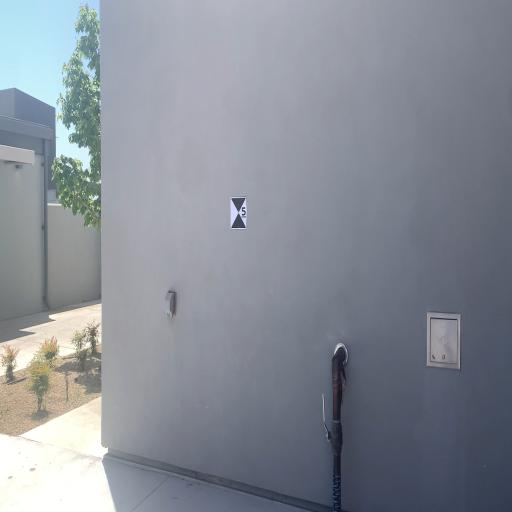target5: (231, 198, 247, 228)
